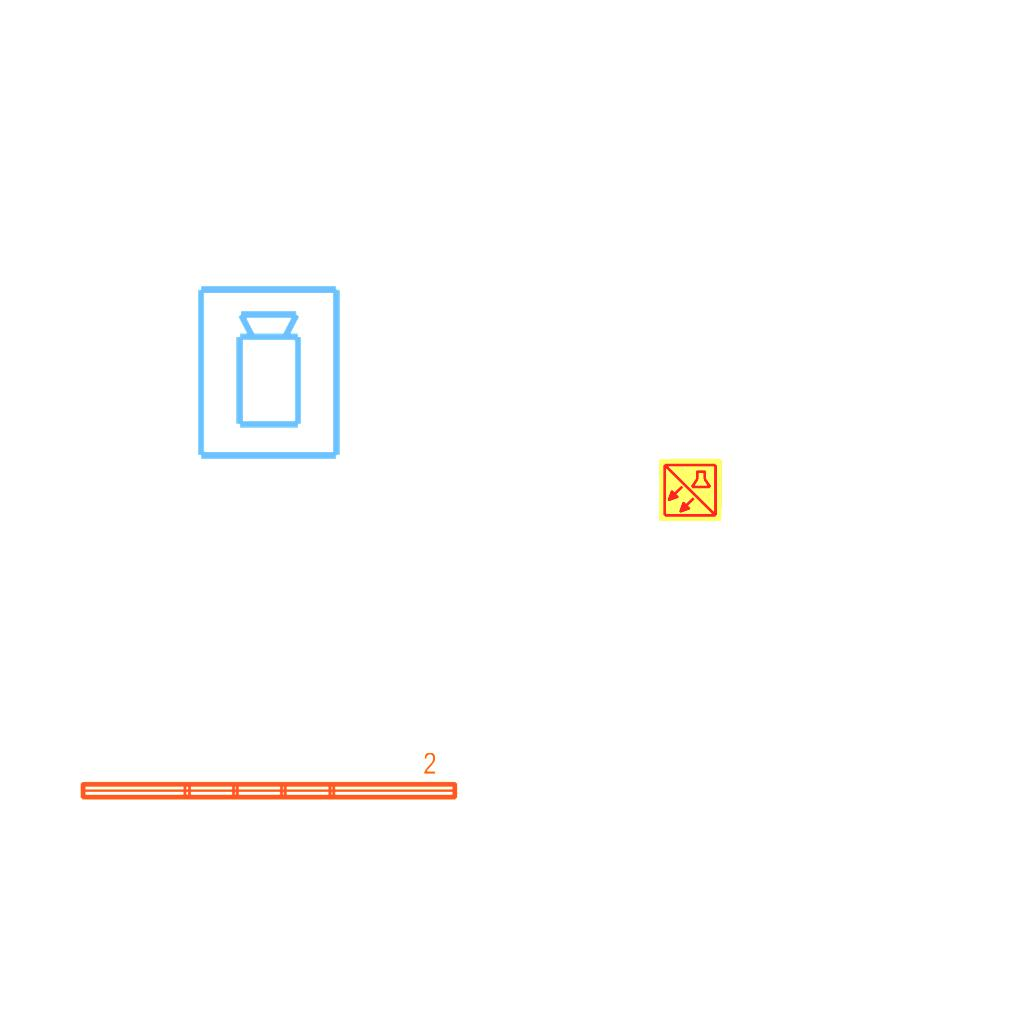Ambulanz_Pendelleuchte_LED: (75, 750, 462, 806)
KFO_Kamera_mit_Festobjektiv: (193, 282, 347, 464)
OKW_Multisensormelder_(Kombination_optischer_Rauch-Kahlenmonoxid_Waerme-Melder): (657, 457, 723, 523)
